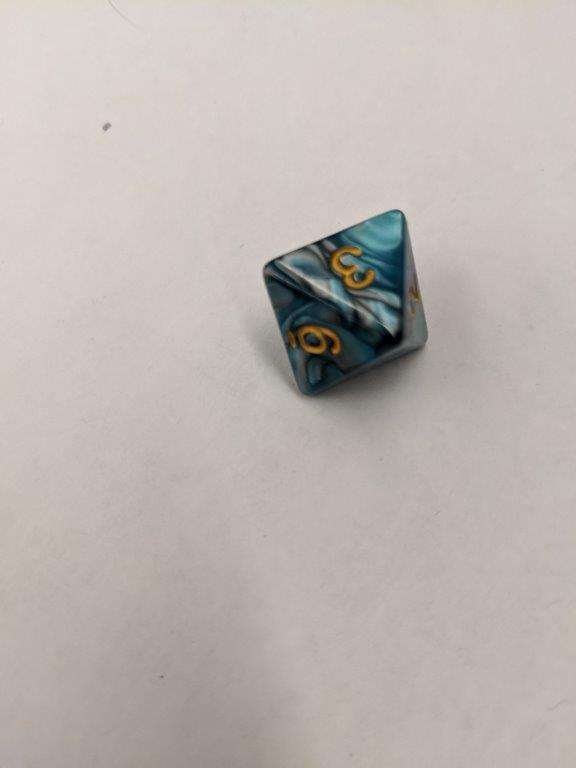d8-3: (260, 205, 431, 400)
